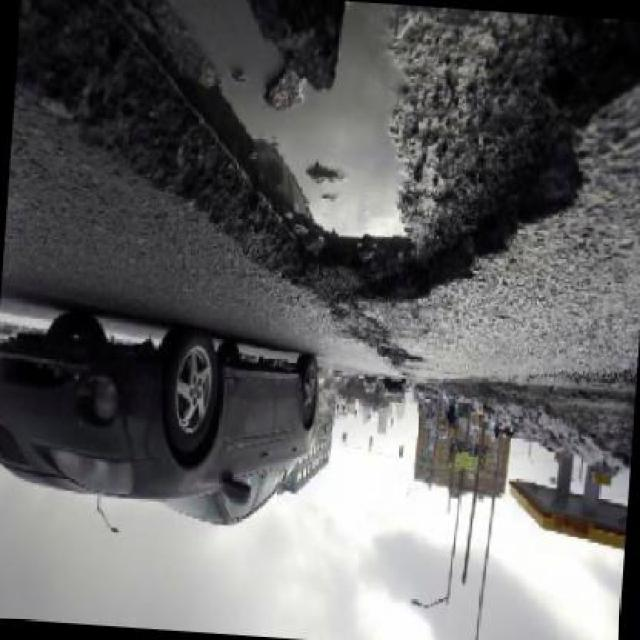pothole: (2, 2, 640, 337)
